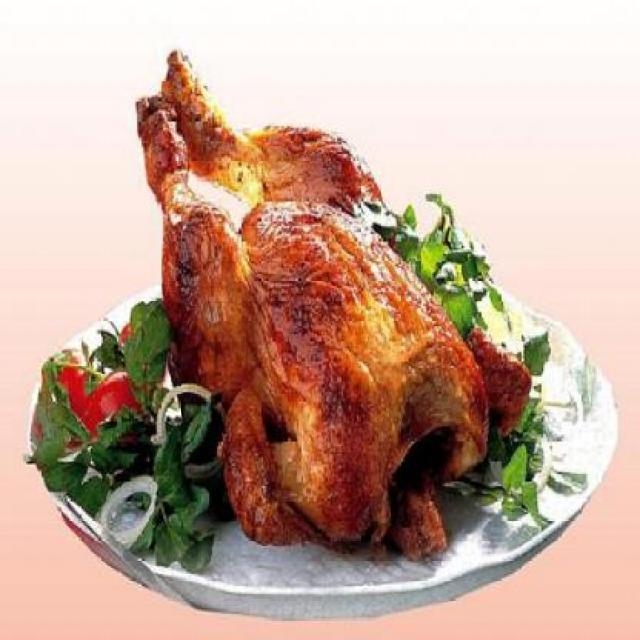Chicken roast: (113, 48, 507, 560)
